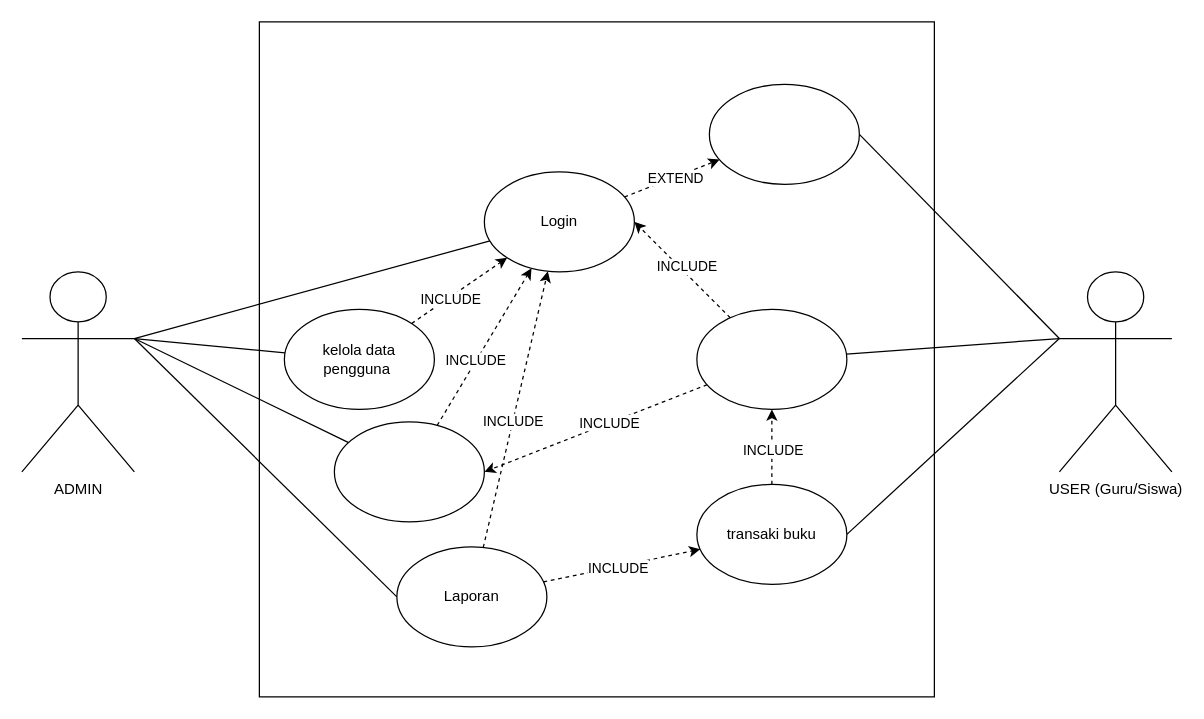
This 1204x719 diagram has some shape labels left out. Here are the shapes that lost their labels. From the top down, the box of each, then its label:
(708, 83, 859, 184): register
(696, 308, 847, 409): Lihat buku
(333, 421, 484, 522): kelola data buku
